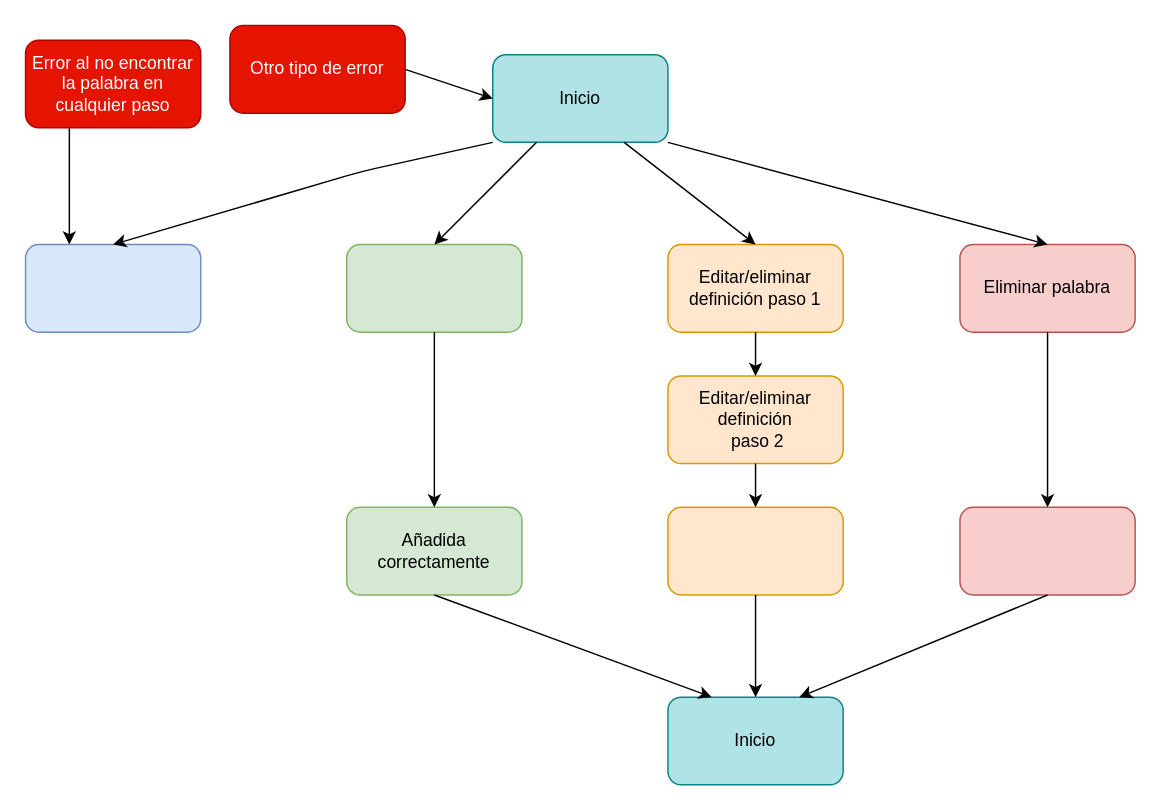
Some shapes in this 1161 by 810 pixel diagram are drawn without their labels. Each missing label, with the centre of its shape:
Añadir palabra o definición: (x=433, y=287)
Búsqueda/ Búsqueda fallida: (x=112, y=287)
Editada/eliminada correctamente: (x=754, y=550)
Eliminada correctamente: (x=1046, y=550)
